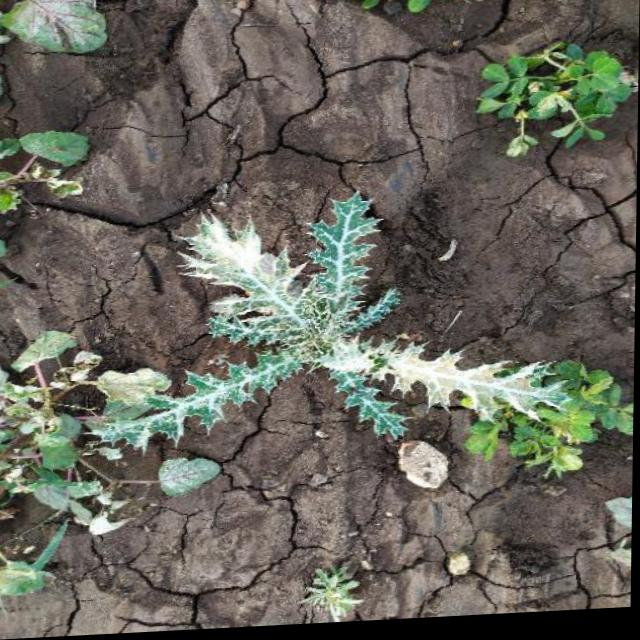weed: (112, 182, 590, 503), (440, 34, 639, 174)
